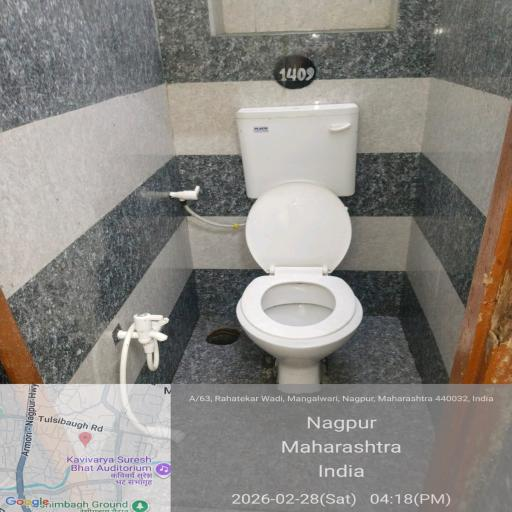clean_floor: (0, 0, 192, 357), (220, 0, 510, 117), (365, 131, 450, 325), (178, 315, 426, 378)
clean_urinal: (231, 194, 366, 366)
